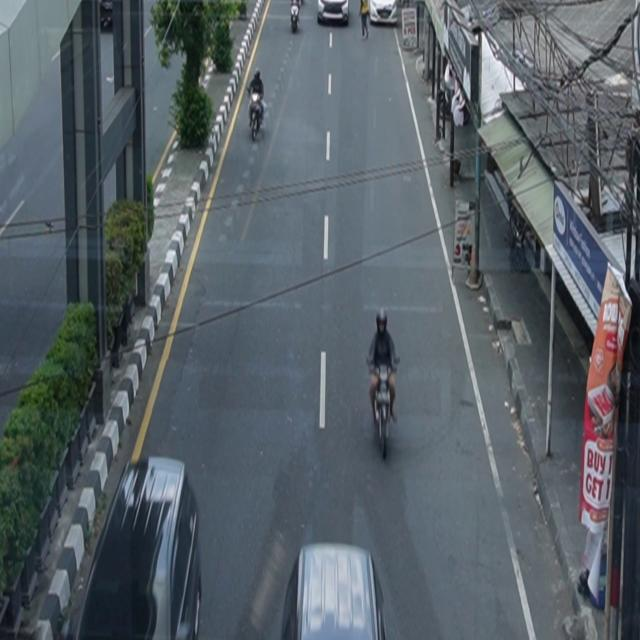car: (75, 456, 203, 640), (281, 543, 388, 640), (318, 1, 350, 26), (370, 1, 398, 26)
